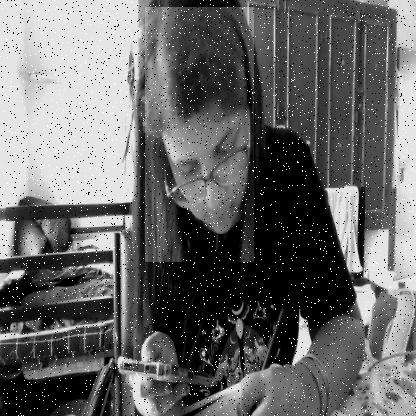Normal: (145, 7, 254, 262)
